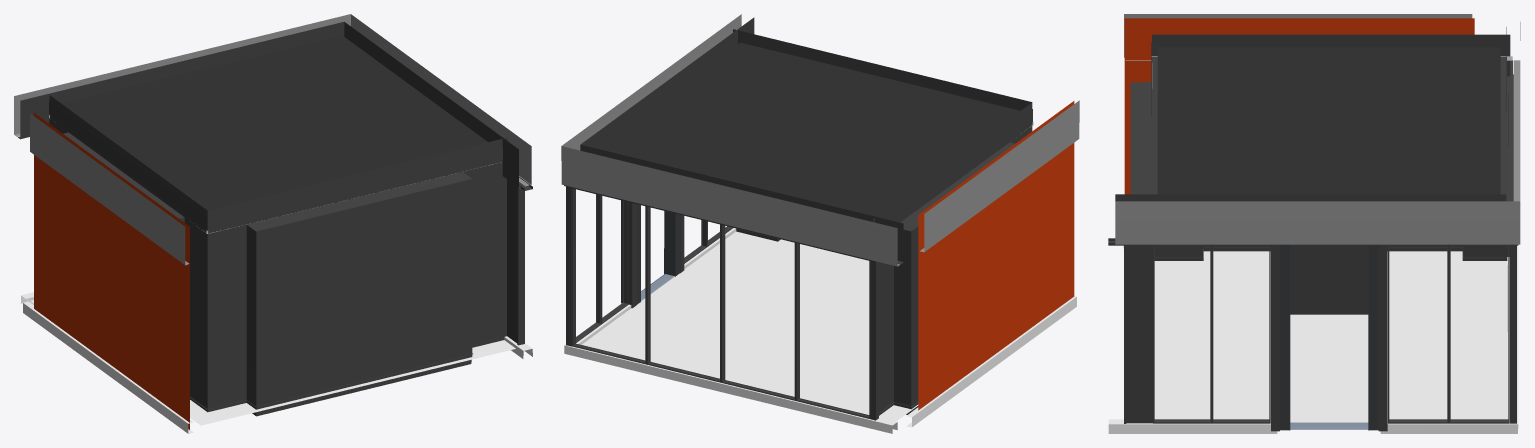
Rendered from SM_H_Building_Tide_Loungehall_19_ATLAS.fbx.
The picture shows the model from 3 angles, left to right: view 1: azimuth 30°, elevation 25°; view 2: azimuth 150°, elevation 25°; view 3: azimuth 270°, elevation 25°; orthographic projection. The views are drawn at different scales.
Parts seen in each view (by area): view 1: SM_H_Building_Tide_Loungehall_19_ATLAS; view 2: SM_H_Building_Tide_Loungehall_19_ATLAS; view 3: SM_H_Building_Tide_Loungehall_19_ATLAS.
Part boxes in pixels (box(x1,y1,x2,y2)): SM_H_Building_Tide_Loungehall_19_ATLAS: box(14, 14, 532, 433); SM_H_Building_Tide_Loungehall_19_ATLAS: box(561, 14, 1079, 433); SM_H_Building_Tide_Loungehall_19_ATLAS: box(1108, 14, 1520, 433).
Bounding box in the file's own units: 915 × 851 × 537.
